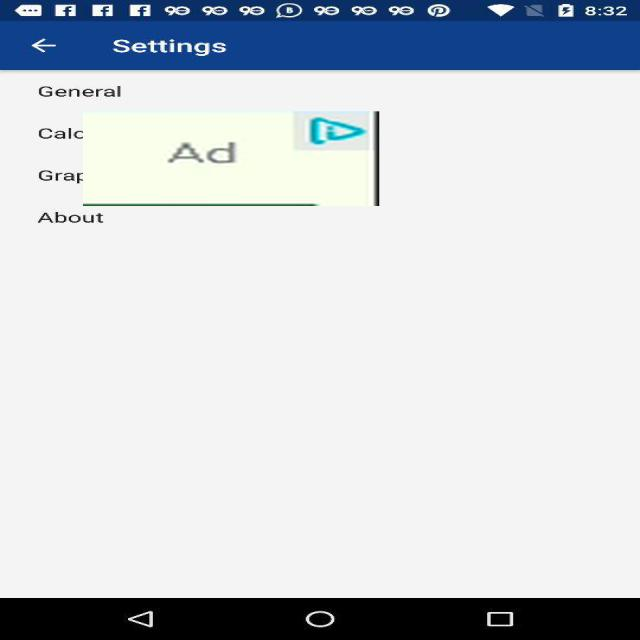sneaking: (83, 111, 379, 206)
